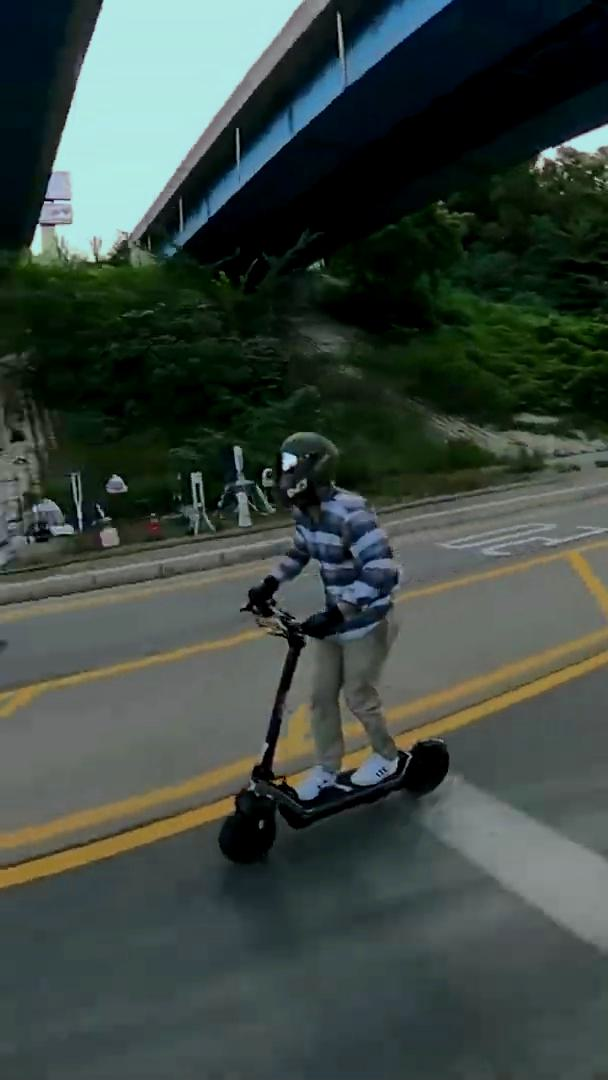helmet: (218, 431, 451, 865)
